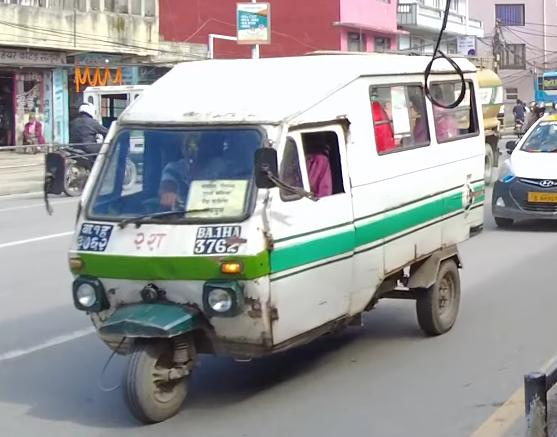taxi: (491, 108, 557, 232)
tempo: (49, 49, 499, 431)
